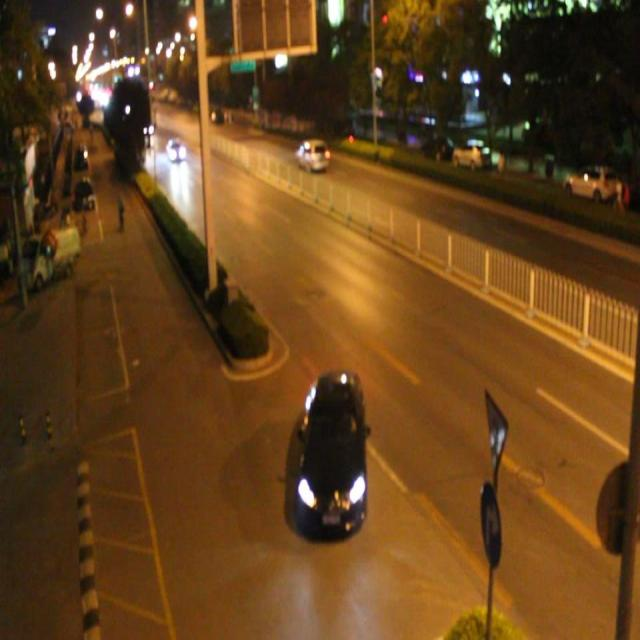car: (300, 367, 368, 536), (296, 139, 328, 172), (166, 140, 186, 160), (142, 120, 156, 138)
